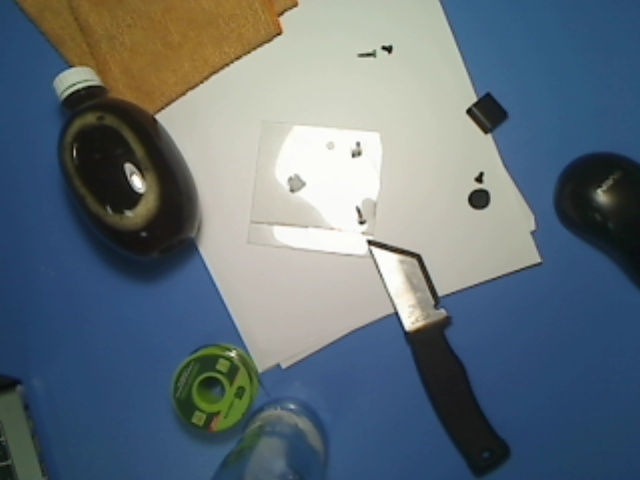plast_bottle: (48, 53, 207, 272)
